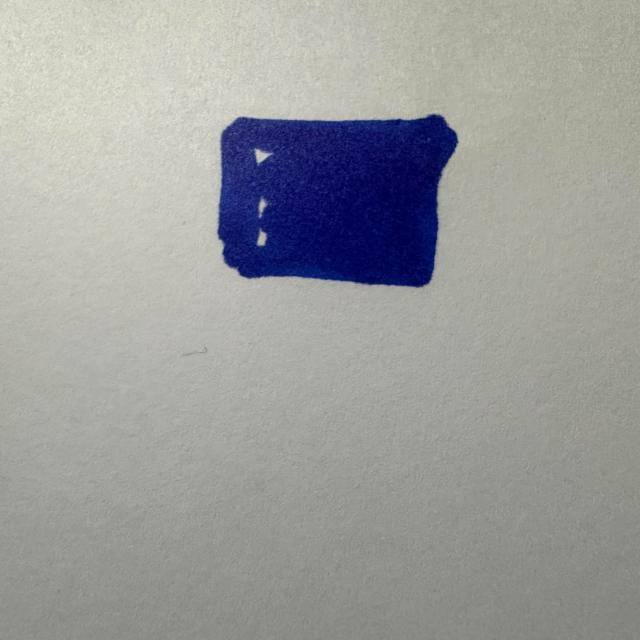Square: (218, 114, 457, 288)
